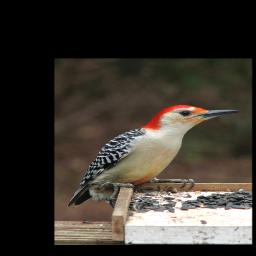Woodpecker: (65, 105, 240, 209)
